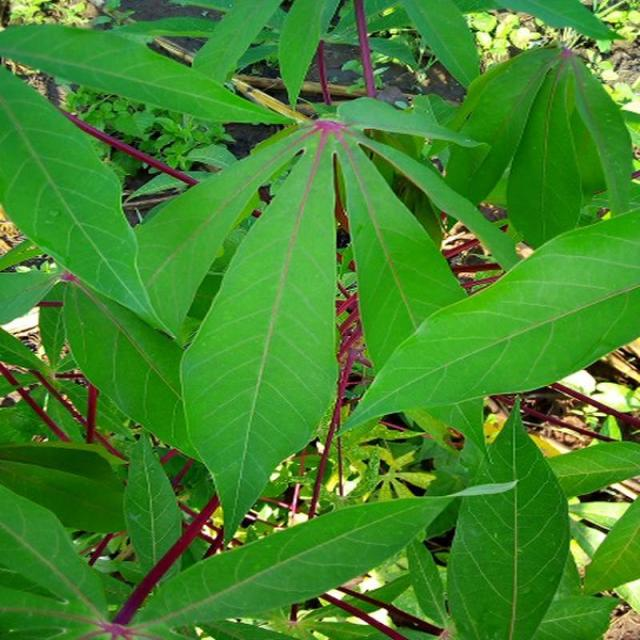cassava leaf: (333, 206, 638, 447), (178, 128, 340, 542), (0, 62, 171, 337), (440, 44, 633, 250), (445, 400, 570, 638)
